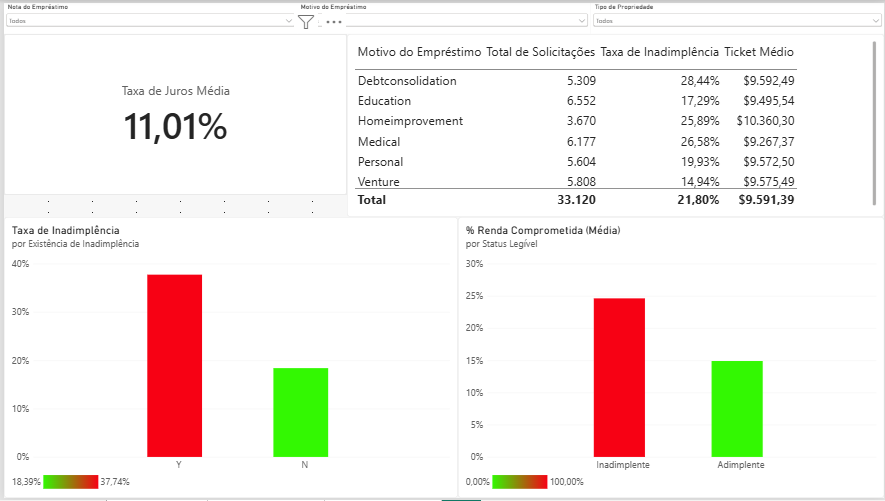

Layout of this report page (visuals, bound fields, positions):
{"tool":"powerbi","page":{"name":"Perfil de Risco","canvas":[1920,1080],"ordinal":1},"visuals":[{"type":"slicer","fields":{"Values":["FatoEmprestimos.nota_emprestimo"]},"box":[0,0,640,67.1],"z":1},{"type":"slicer","fields":{"Values":["FatoEmprestimos.motivo_emprestimo"]},"box":[638.8,0,640,67.1],"z":2},{"type":"slicer","fields":{"Values":["FatoEmprestimos.propriedade_residencial_pessoa"]},"box":[1280,0,640,67.1],"z":3},{"type":"cardVisual","fields":{"Data":["Medidas.Taxa de Juros Média"]},"box":[0,67.5,480,205],"z":4},{"type":"columnChart","fields":{"Category":["FatoEmprestimos.existencia_inadimplencia_banco"],"Y":["Medidas.Taxa de Inadimplência"]},"box":[0,467.5,990,612.5],"z":5},{"type":"columnChart","fields":{"Category":["FatoEmprestimos.Status Legível"],"Y":["Medidas.% Renda Comprometida (Média)"]},"box":[990,467.5,930,612.5],"z":6},{"type":"tableEx","fields":{"Values":["FatoEmprestimos.motivo_emprestimo","Medidas.Total de Solicitações","Medidas.Taxa de Inadimplência","Medidas.Ticket Médio"]},"box":[900,67.5,1020,400],"z":7}]}

Visuals, with their boxes in screenshot pixels (x1, y1, x2, y2), scaled from the page's 1920x1080 canvas onto the 885x501 screenshot:
slicer - FatoEmprestimos.nota_emprestimo: [left=0, top=0, right=295, bottom=31]
slicer - FatoEmprestimos.motivo_emprestimo: [left=294, top=0, right=589, bottom=31]
slicer - FatoEmprestimos.propriedade_residencial_pessoa: [left=590, top=0, right=884, bottom=31]
cardVisual - Medidas.Taxa de Juros Média: [left=0, top=31, right=221, bottom=126]
columnChart - FatoEmprestimos.existencia_inadimplencia_banco x Medidas.Taxa de Inadimplência: [left=0, top=217, right=456, bottom=500]
columnChart - FatoEmprestimos.Status Legível x Medidas.% Renda Comprometida (Média): [left=456, top=217, right=884, bottom=500]
tableEx - FatoEmprestimos.motivo_emprestimo x Medidas.Total de Solicitações: [left=415, top=31, right=884, bottom=217]
